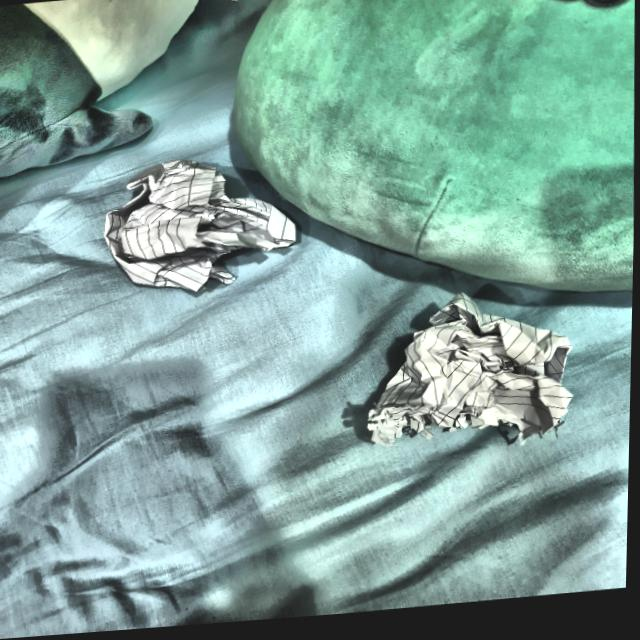Paper: (355, 299, 571, 461), (97, 156, 298, 303)
